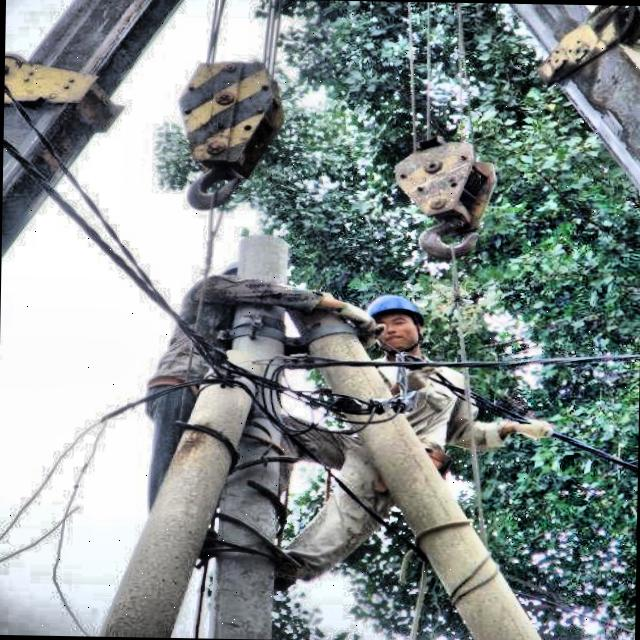helmet: (364, 290, 429, 351)
